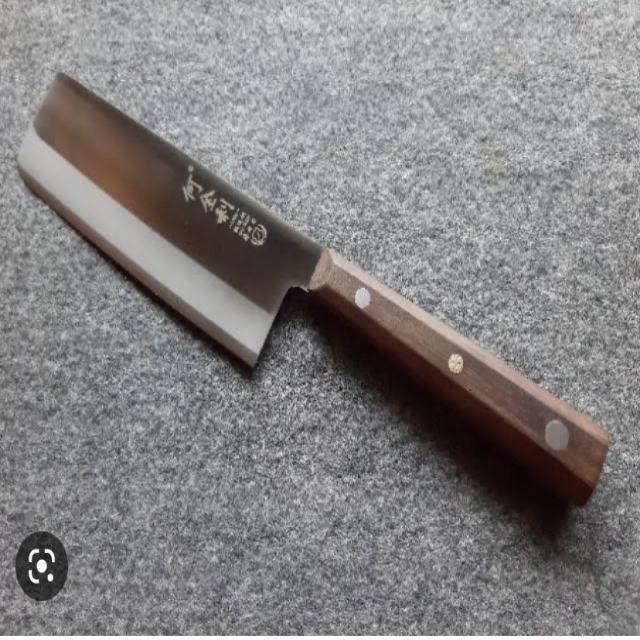Knife: (20, 41, 618, 507)
